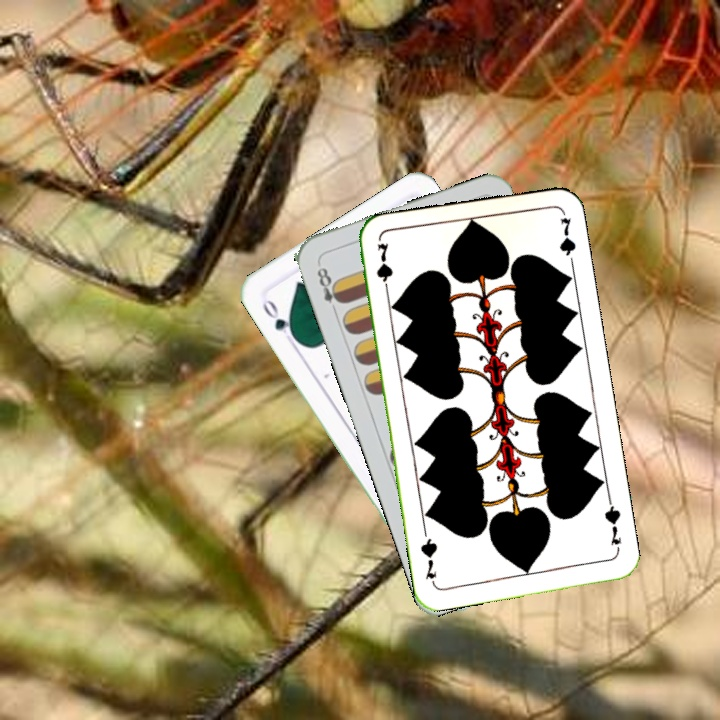E8: (313, 263, 346, 317)
G7: (372, 238, 396, 298), (600, 496, 624, 555)
GO: (258, 294, 300, 344)
